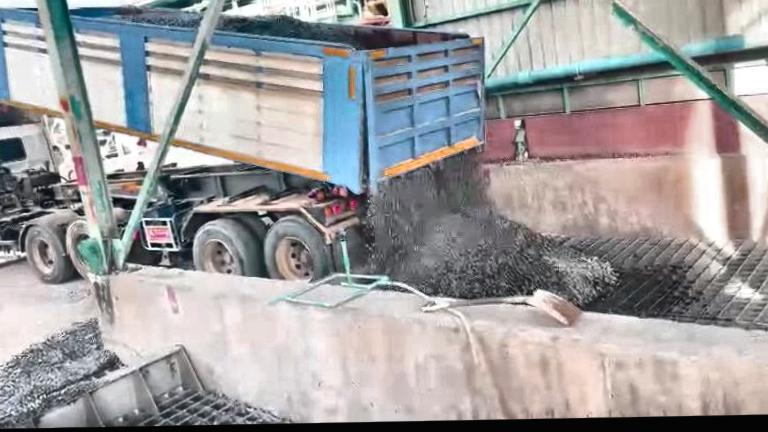gravel: (366, 153, 617, 305), (0, 321, 121, 426), (217, 14, 410, 49), (112, 6, 202, 28)
